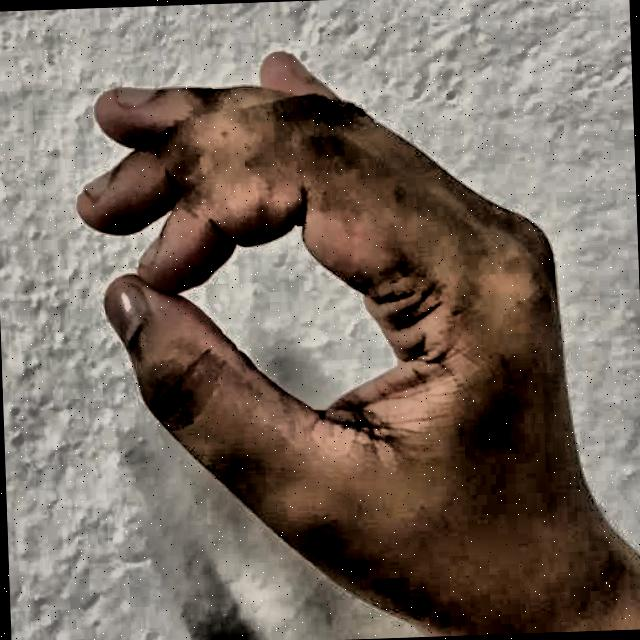Yo: (41, 7, 608, 640)
